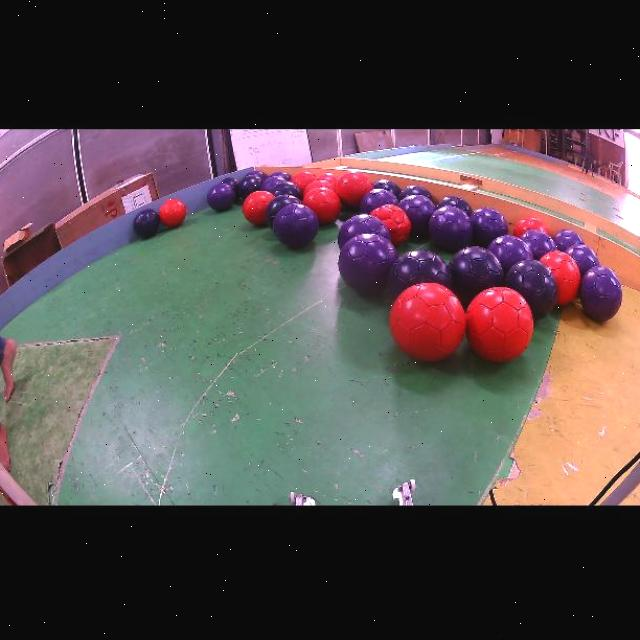B: (450, 246, 505, 306), (388, 248, 454, 297), (505, 259, 558, 319), (265, 194, 301, 227), (133, 208, 159, 237), (437, 195, 473, 214), (238, 174, 263, 199), (271, 180, 303, 199), (374, 178, 401, 196), (221, 175, 239, 198)
P: (339, 233, 399, 293), (580, 264, 622, 320), (429, 205, 473, 251), (273, 203, 319, 247), (337, 213, 391, 247), (488, 234, 533, 273), (469, 205, 508, 247), (397, 194, 437, 234), (520, 229, 557, 259), (566, 243, 599, 276), (359, 187, 399, 213), (207, 182, 235, 211), (553, 229, 584, 250), (260, 175, 286, 191), (246, 169, 268, 180), (269, 170, 292, 180)
R: (390, 282, 465, 361), (465, 286, 533, 361), (540, 250, 580, 305), (370, 204, 412, 244), (302, 186, 341, 224), (335, 170, 373, 205), (243, 190, 275, 224), (159, 197, 186, 226), (514, 216, 550, 236), (290, 170, 316, 191), (303, 179, 335, 195), (316, 171, 339, 184)
